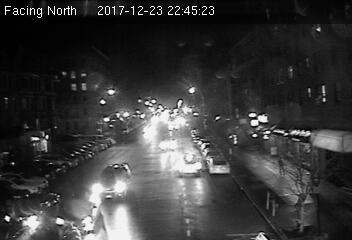car: (91, 163, 134, 204), (176, 152, 203, 177), (208, 156, 230, 174)
